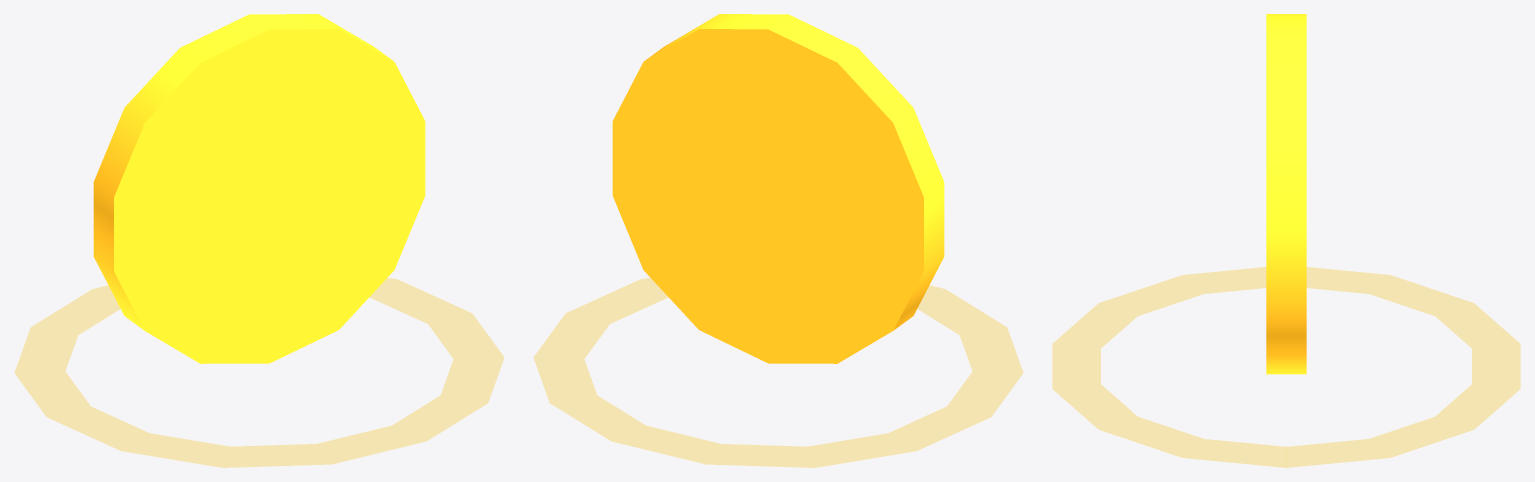
Rendered from coin.glb.
3 views of the same model, side by side, from view 1: azimuth 30°, elevation 25°; view 2: azimuth 150°, elevation 25°; view 3: azimuth 270°, elevation 25° (orthographic). The views are drawn at different scales.
Visible parts, largest first — view 1: road-coin; view 2: road-coin; view 3: road-coin.
Part boxes in pixels (x1,y1,x2,y2): road-coin: [14, 14, 504, 467]; road-coin: [533, 14, 1023, 467]; road-coin: [1052, 14, 1520, 467].
Bounding box in the file's own units: 0.96 × 0.74 × 0.9359.
